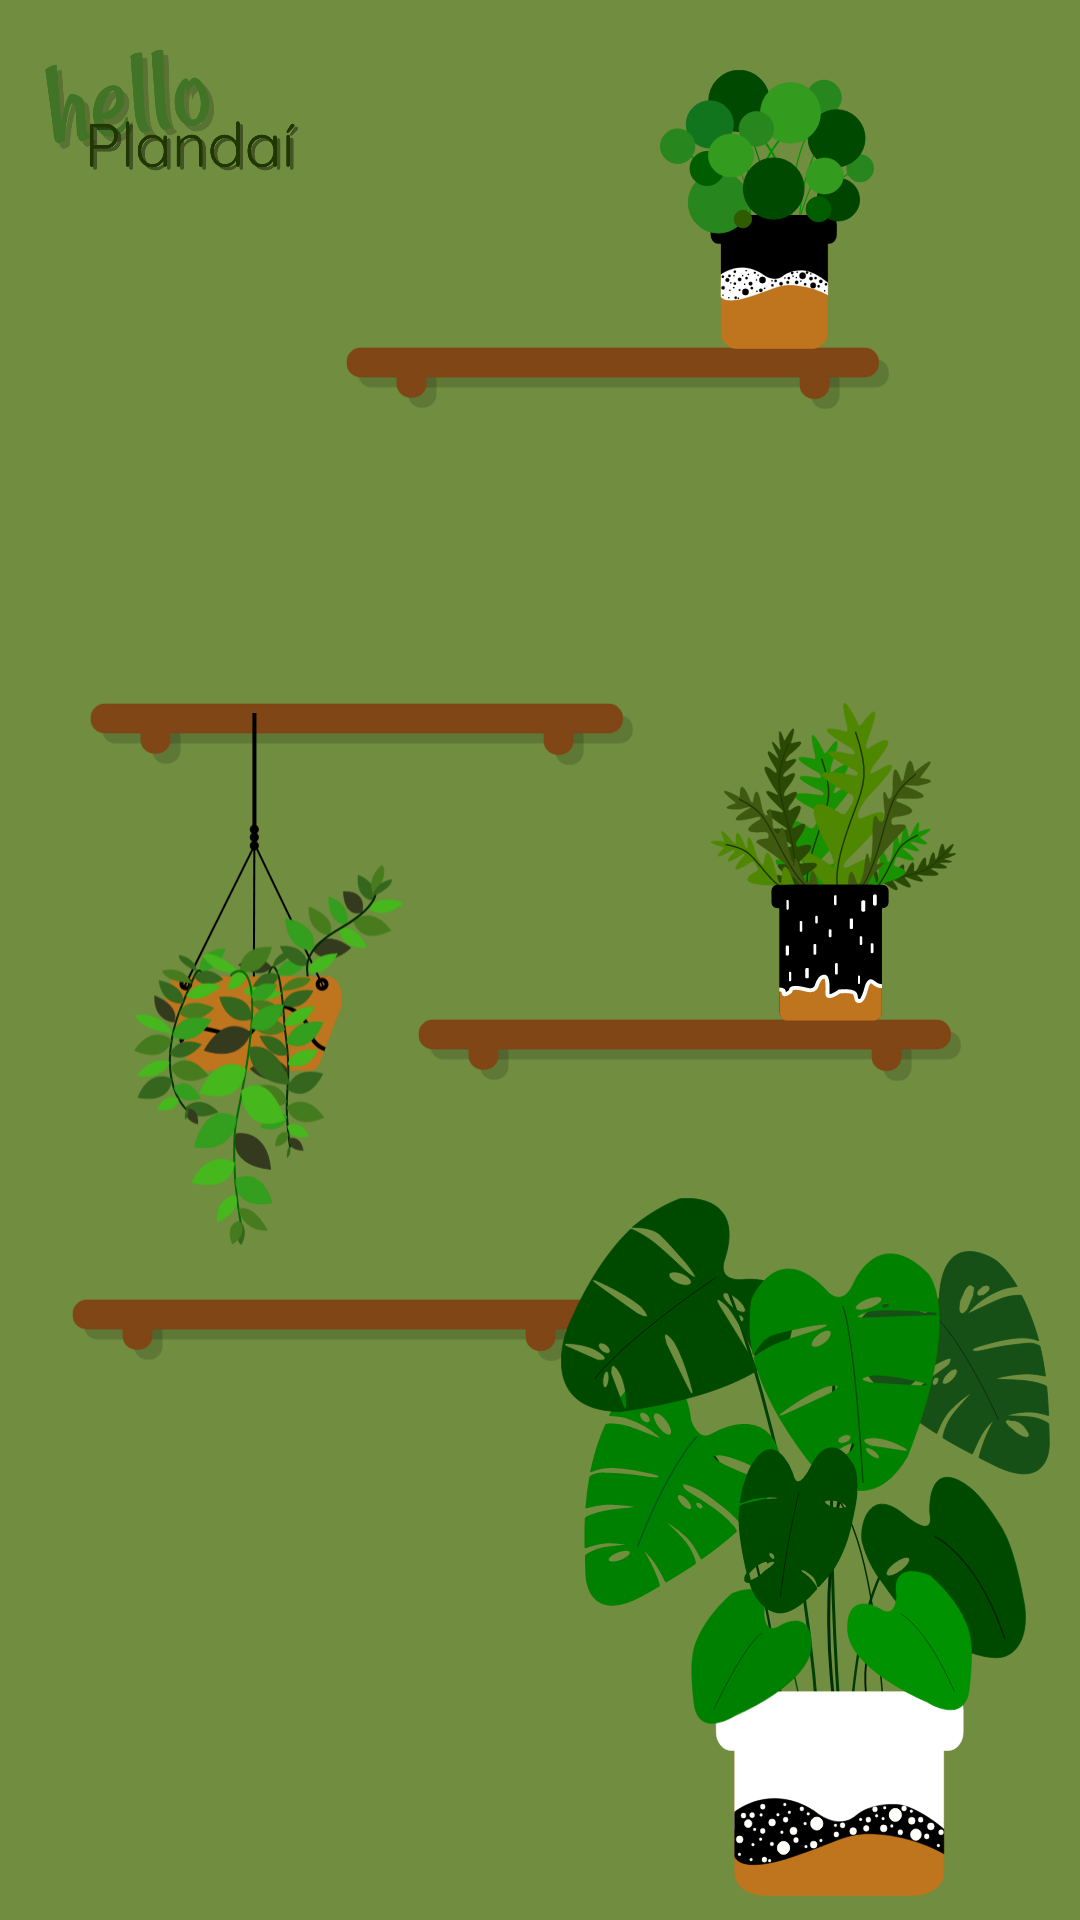

Screen size 1080×1920. Icon name, then its center in pixels as [x,y]:
pilea: [762,209]
